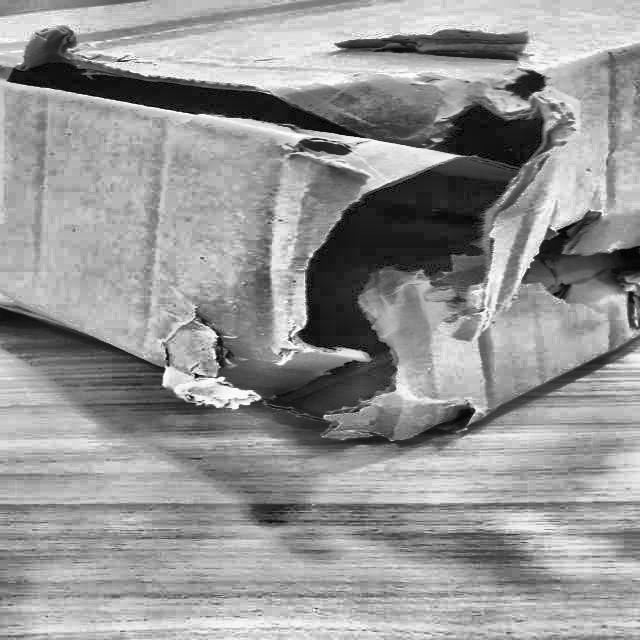box: (0, 0, 639, 474)
hole: (263, 75, 565, 443), (0, 35, 254, 139), (539, 219, 639, 302)
